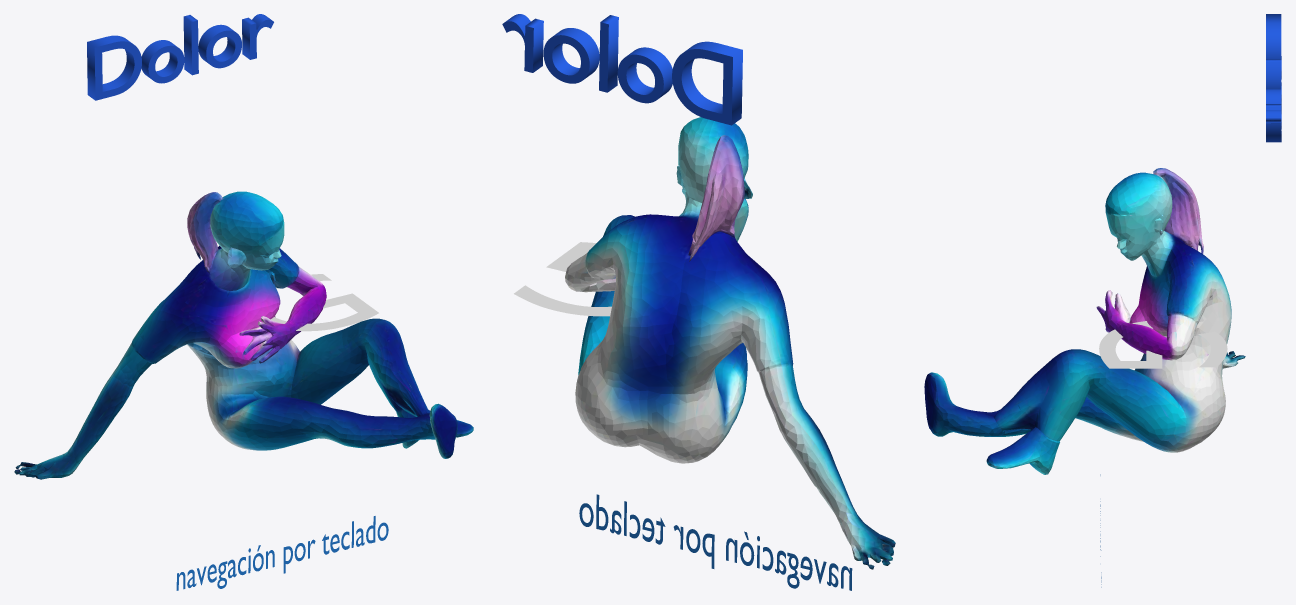
Rendered from Pain.glb.
The picture shows the model from 3 angles, left to right: view 1: azimuth 30°, elevation 25°; view 2: azimuth 150°, elevation 25°; view 3: azimuth 270°, elevation 25°; orthographic projection. The views are drawn at different scales.
Visible parts, largest first — view 1: Pain, Text.001, Text.002, Text; view 2: Pain, Text.001, Text.002, Text; view 3: Pain, Text.001, Text.
Part boxes in pixels (<box>): Pain: <box>14,191,473,479</box>; Text.001: <box>87,14,273,100</box>; Text.002: <box>176,516,388,590</box>; Text: <box>263,274,378,331</box>; Pain: <box>565,117,895,569</box>; Text.001: <box>502,14,742,125</box>; Text.002: <box>579,494,852,590</box>; Text: <box>514,242,611,316</box>; Pain: <box>924,168,1245,474</box>; Text.001: <box>1266,14,1281,142</box>; Text: <box>1099,321,1227,368</box>.
Bounding box in the file's own units: 2.12 × 2.94 × 1.95.
Materials: 3 (1 with a texture image).
